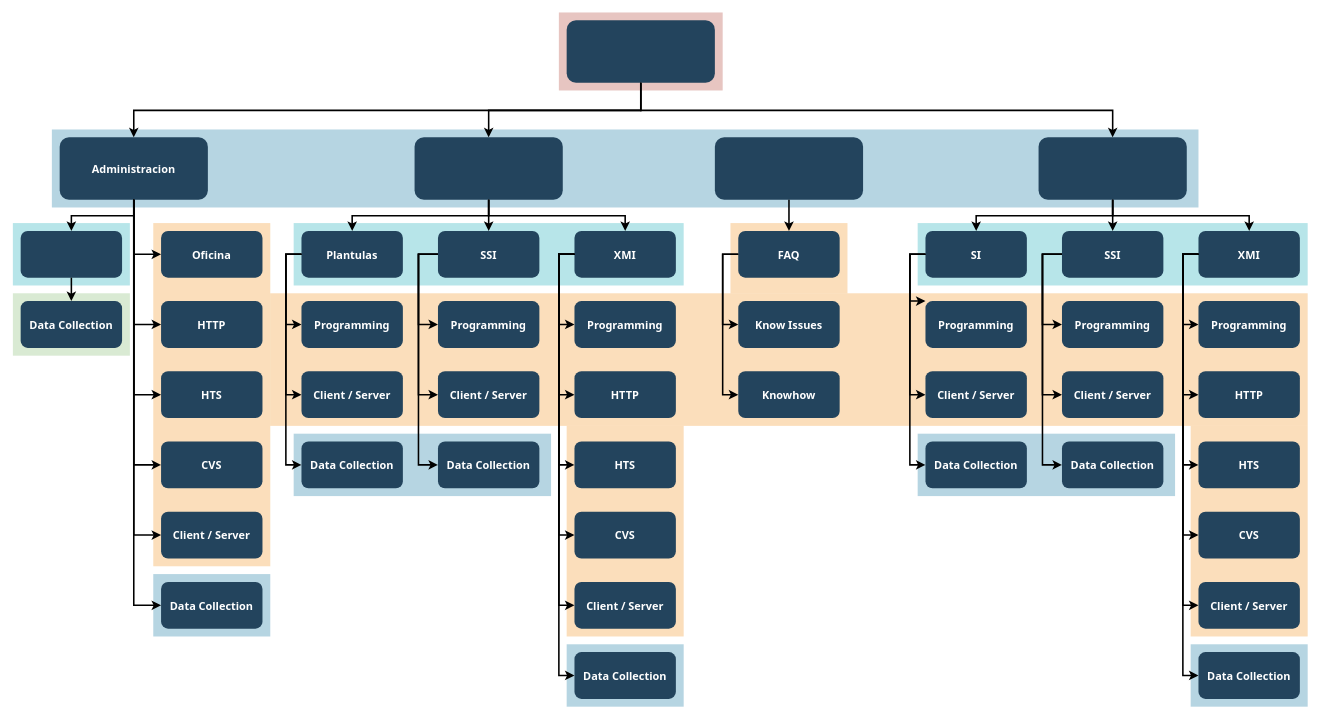
Image size: 1321x719. Some labels were removed from this diagram. Each missing label, with the centre of its shape:
"Ambiente" belongs at point 640,51.
"Conservacion" belongs at point 488,168.
"Productivo" belongs at point 788,168.
"PSA" belongs at point 1112,168.
"Transporte" belongs at point 71,253.
